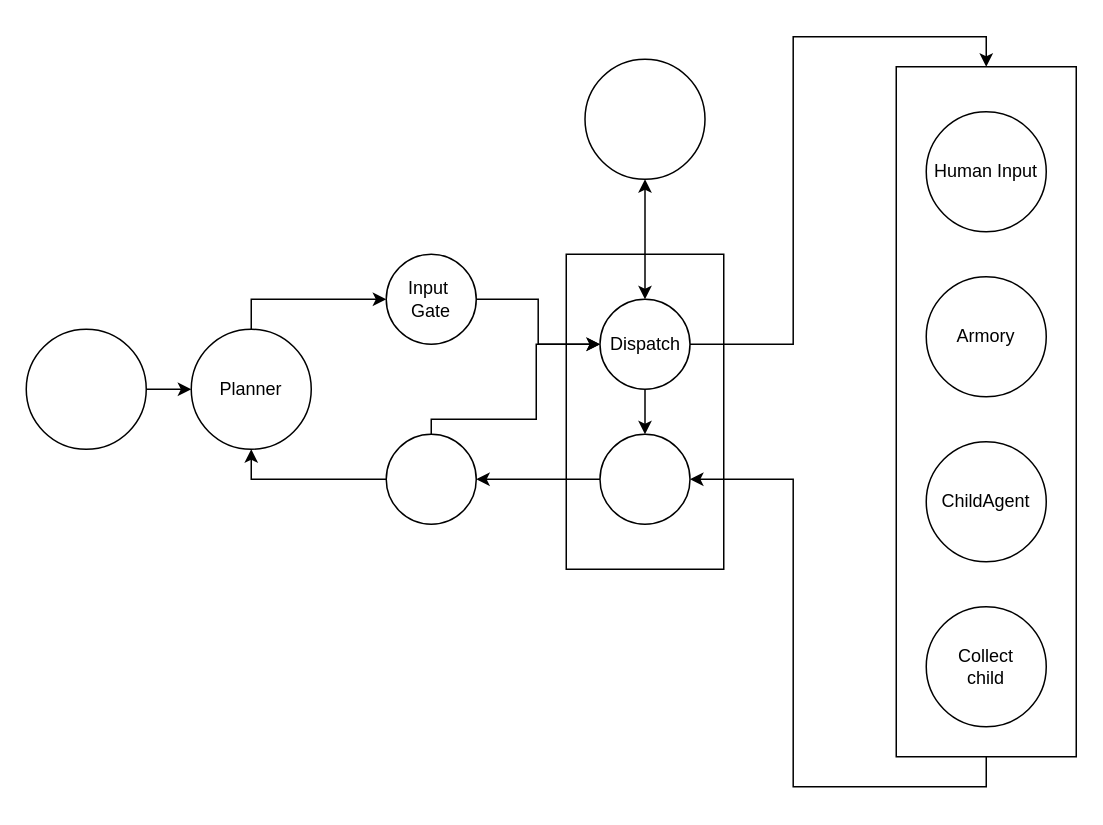
This 1103x825 diagram has some shape labels left out. The centre of each missing label's shape, as x and y in pixels:
"Collect" belongs at (644,478).
"Context Selector" belongs at (644,118).
"Output Gate" belongs at (430,478).
"Preflight" belongs at (85,388).
